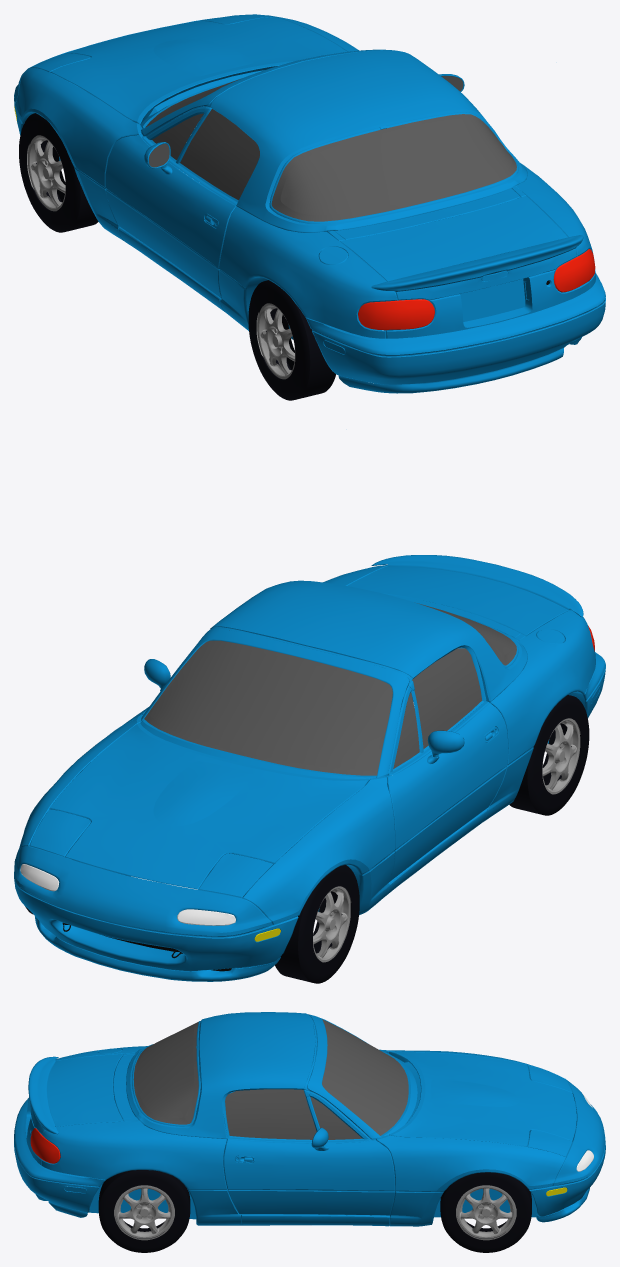
Rendered from MX Miata.fbx.
The picture shows the model from 3 angles, top to bottom: view 1: azimuth 30°, elevation 25°; view 2: azimuth 150°, elevation 25°; view 3: azimuth 270°, elevation 25°; orthographic projection. The views are drawn at different scales.
Parts seen in each view (by area): view 1: Mazda MX-5 Miata, R Wheel, R Wheel.001; view 2: Mazda MX-5 Miata, R Wheel.001, R Wheel; view 3: Mazda MX-5 Miata, R Wheel, R Wheel.001.
Boxes of the visible parts, <box> form: Mazda MX-5 Miata: <box>14,14,605,393</box>; R Wheel: <box>248,280,335,400</box>; R Wheel.001: <box>19,113,98,232</box>; Mazda MX-5 Miata: <box>14,555,605,981</box>; R Wheel.001: <box>25,865,359,983</box>; R Wheel: <box>509,695,589,815</box>; Mazda MX-5 Miata: <box>14,1012,605,1226</box>; R Wheel: <box>98,1170,190,1252</box>; R Wheel.001: <box>440,1172,531,1252</box>.
Size of the model in its own units: 710 by 636 by 1537.
1 material, 1 textured.
